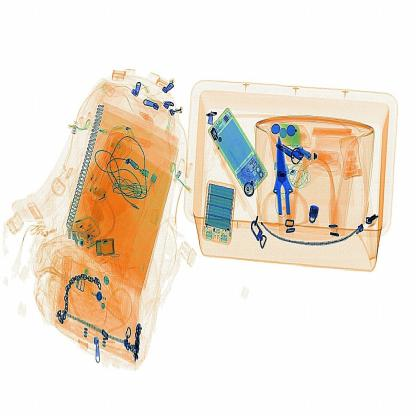gun: (262, 140, 314, 238)
